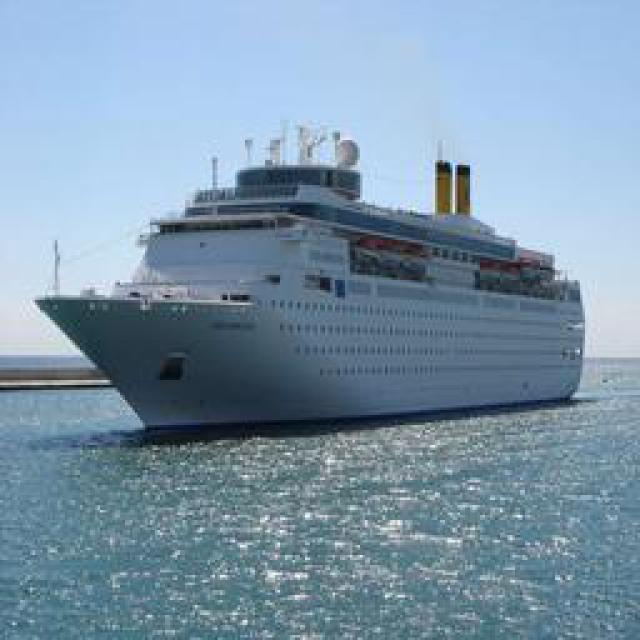Ship: (34, 129, 589, 432)
